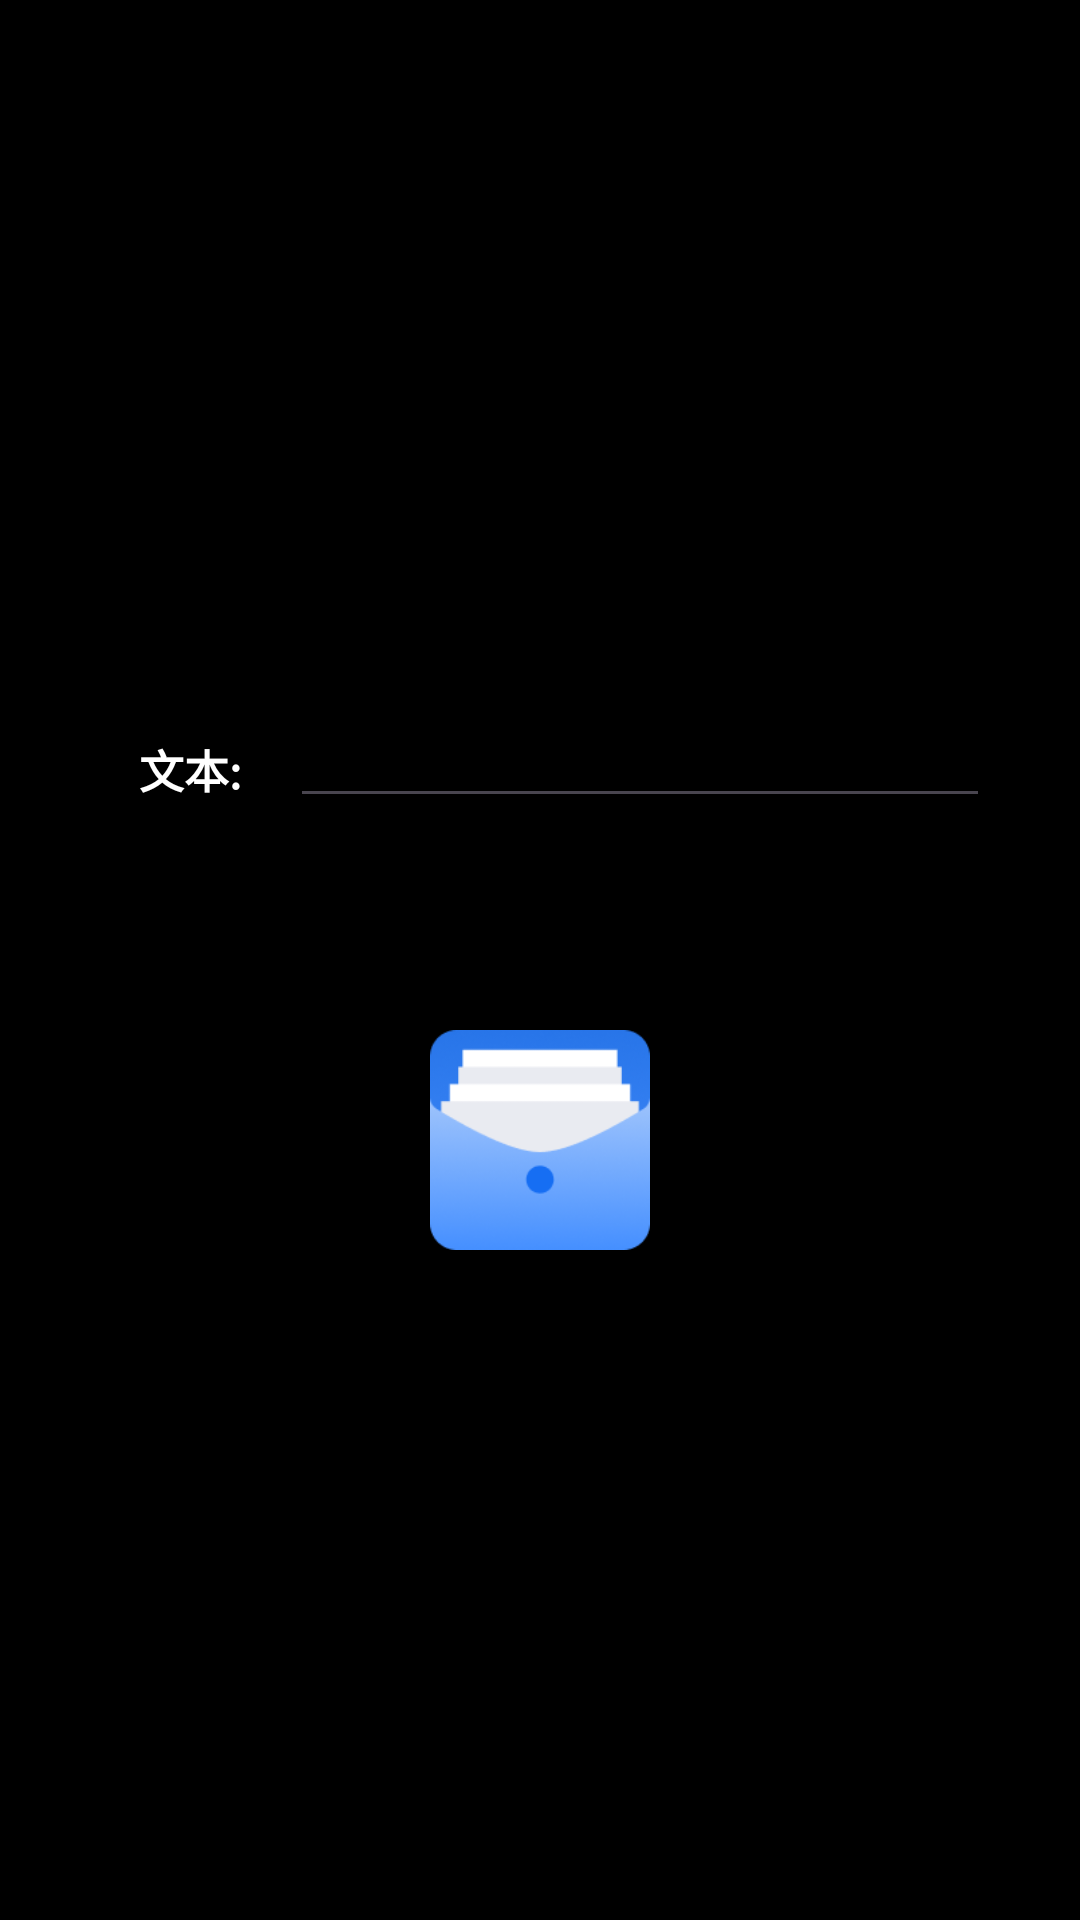

Icons on this 1080x1920 Android screen, each with the point to tap as point (x, y):
file: point (540, 1140)
